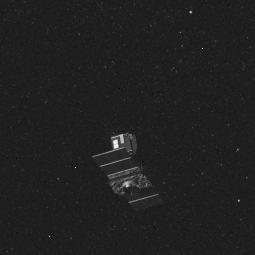soho: (88, 120, 169, 215)
